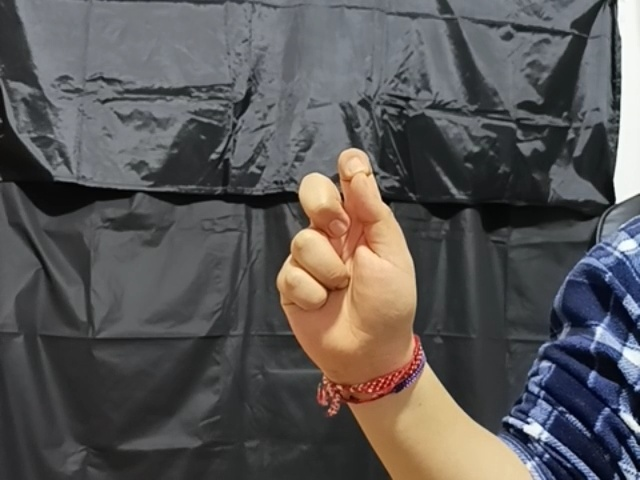T: (274, 145, 423, 369)
